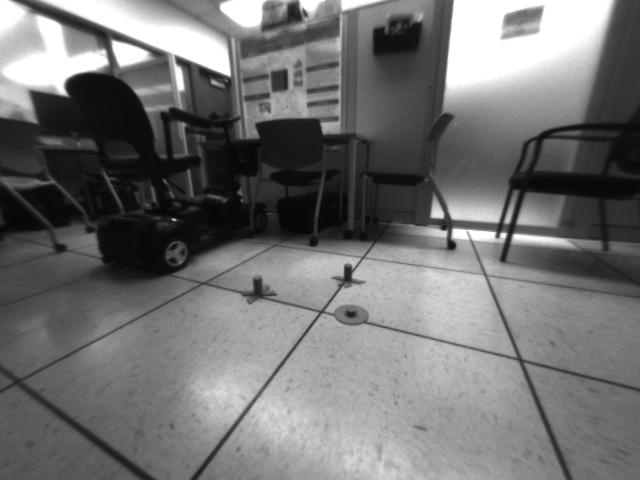X: (241, 275, 276, 304), (331, 261, 364, 288)
